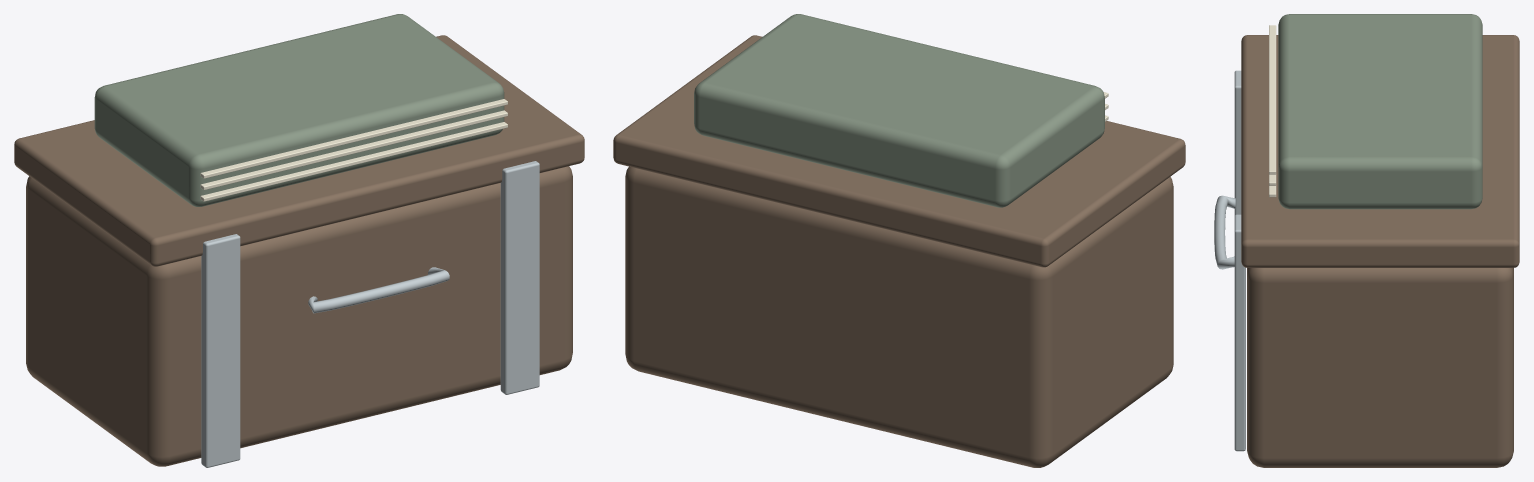
File: abandoned-weather-station-and-storm-shelter-blanket-ch-8f08f687__31045.glb
3 renders of one model, left to right at view 1: azimuth 30°, elevation 25°; view 2: azimuth 150°, elevation 25°; view 3: azimuth 270°, elevation 25°, orthographic.
Visible parts, largest first — view 1: blanket-chest; view 2: blanket-chest; view 3: blanket-chest.
Boxes of the visible parts, <box> form: blanket-chest: <box>14,14,584,467</box>; blanket-chest: <box>613,14,1185,467</box>; blanket-chest: <box>1214,14,1519,467</box>.
Size of the model in its own units: 0.87 by 0.555 by 0.5376.
